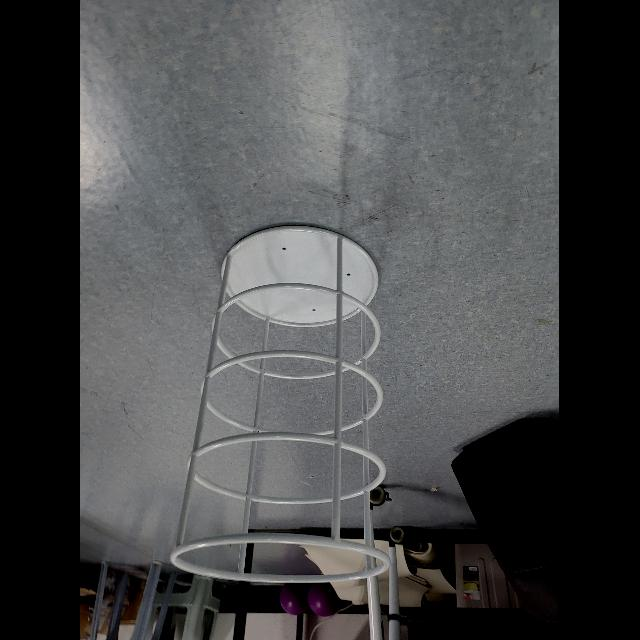S: (166, 220, 394, 586)
